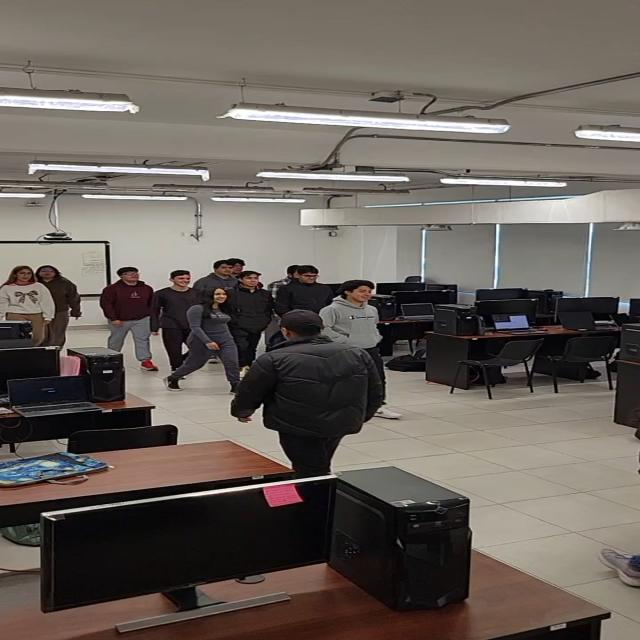Persona: (244, 308, 378, 473), (329, 276, 394, 413), (174, 278, 233, 394), (96, 259, 154, 372), (36, 264, 89, 348), (1, 261, 50, 344), (230, 267, 268, 356), (156, 268, 188, 357), (287, 264, 325, 309)
